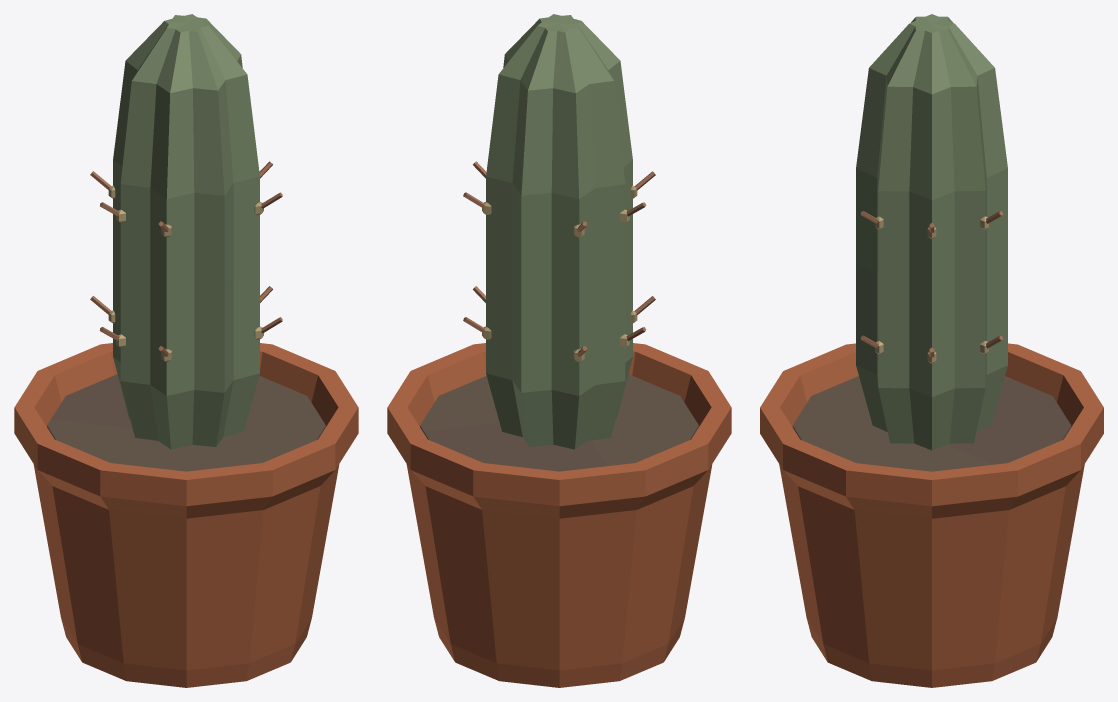
File: new-spinosissima.glb
The picture shows the model from 3 angles, left to right: view 1: azimuth 30°, elevation 25°; view 2: azimuth 150°, elevation 25°; view 3: azimuth 270°, elevation 25°; orthographic projection.
Parts seen in each view (by area): view 1: new-spinosissima/review-terra-vessel, new-spinosissima/ribbed-stem-001, new-spinosissima/review-rooted-soil; view 2: new-spinosissima/review-terra-vessel, new-spinosissima/ribbed-stem-001, new-spinosissima/review-rooted-soil; view 3: new-spinosissima/review-terra-vessel, new-spinosissima/ribbed-stem-001, new-spinosissima/review-rooted-soil.
Part boxes in pixels (x1,y1,x2,y2): new-spinosissima/review-terra-vessel: (14,343,358,687); new-spinosissima/ribbed-stem-001: (113,14,259,449); new-spinosissima/review-rooted-soil: (47,374,325,471); new-spinosissima/review-terra-vessel: (387,343,731,687); new-spinosissima/ribbed-stem-001: (486,14,632,449); new-spinosissima/review-rooted-soil: (420,374,698,471); new-spinosissima/review-terra-vessel: (760,343,1103,687); new-spinosissima/ribbed-stem-001: (856,14,1007,450); new-spinosissima/review-rooted-soil: (792,376,1071,471).
Bounding box in the file's own units: 0.19 × 0.374 × 0.19.
Materials: 5 (5 with a texture image).
